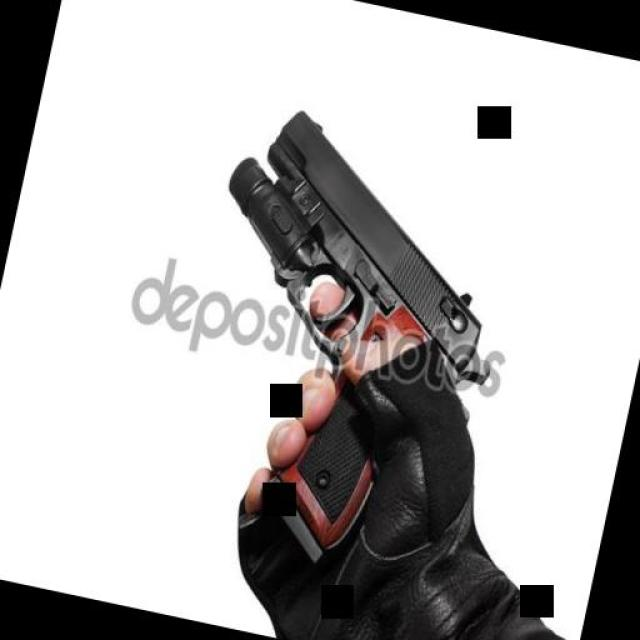gun: (157, 69, 528, 581)
